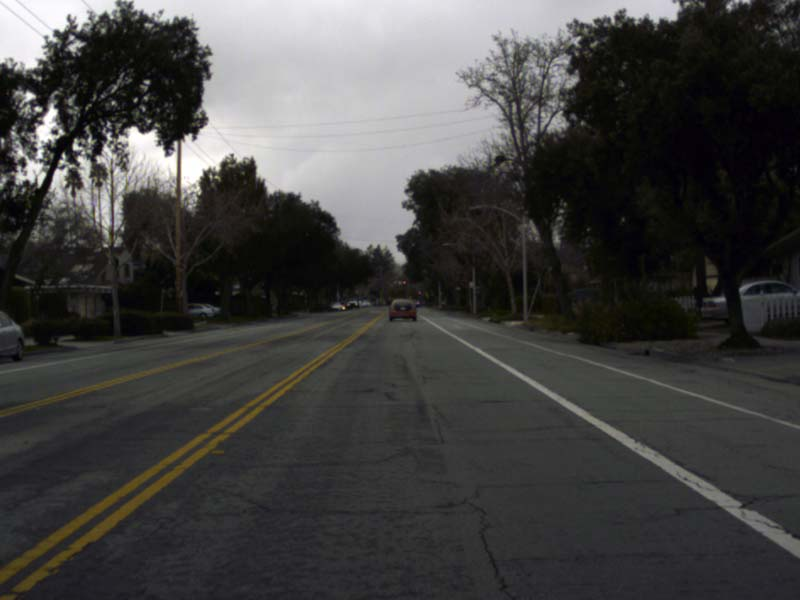Green: (354, 289, 359, 296), (390, 280, 392, 285)
Red: (403, 281, 405, 286), (418, 291, 420, 296)
